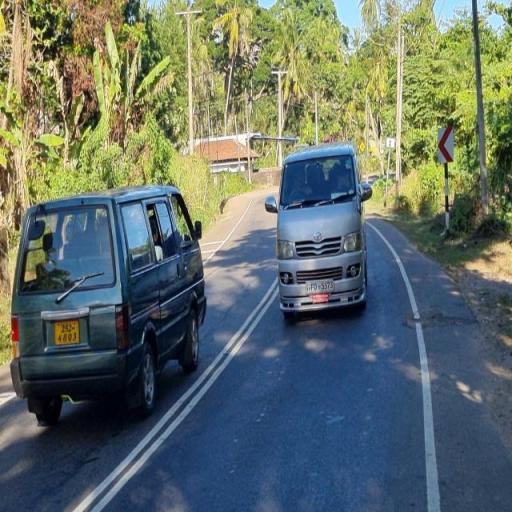double_white_line: (72, 281, 277, 512)
